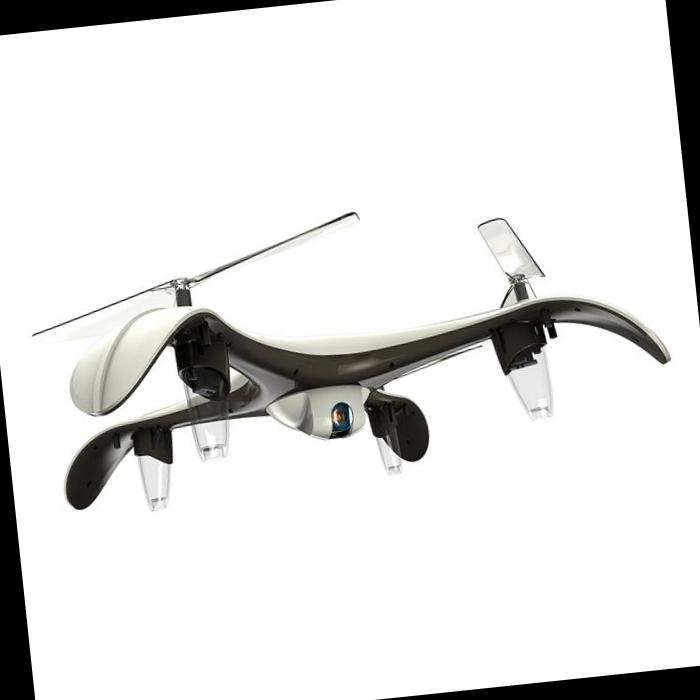drone: (12, 178, 646, 537)
